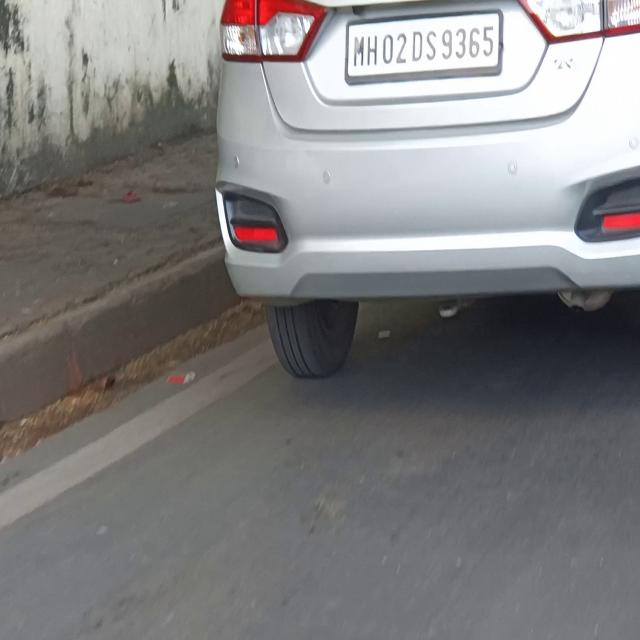Plate: (347, 13, 502, 76)
